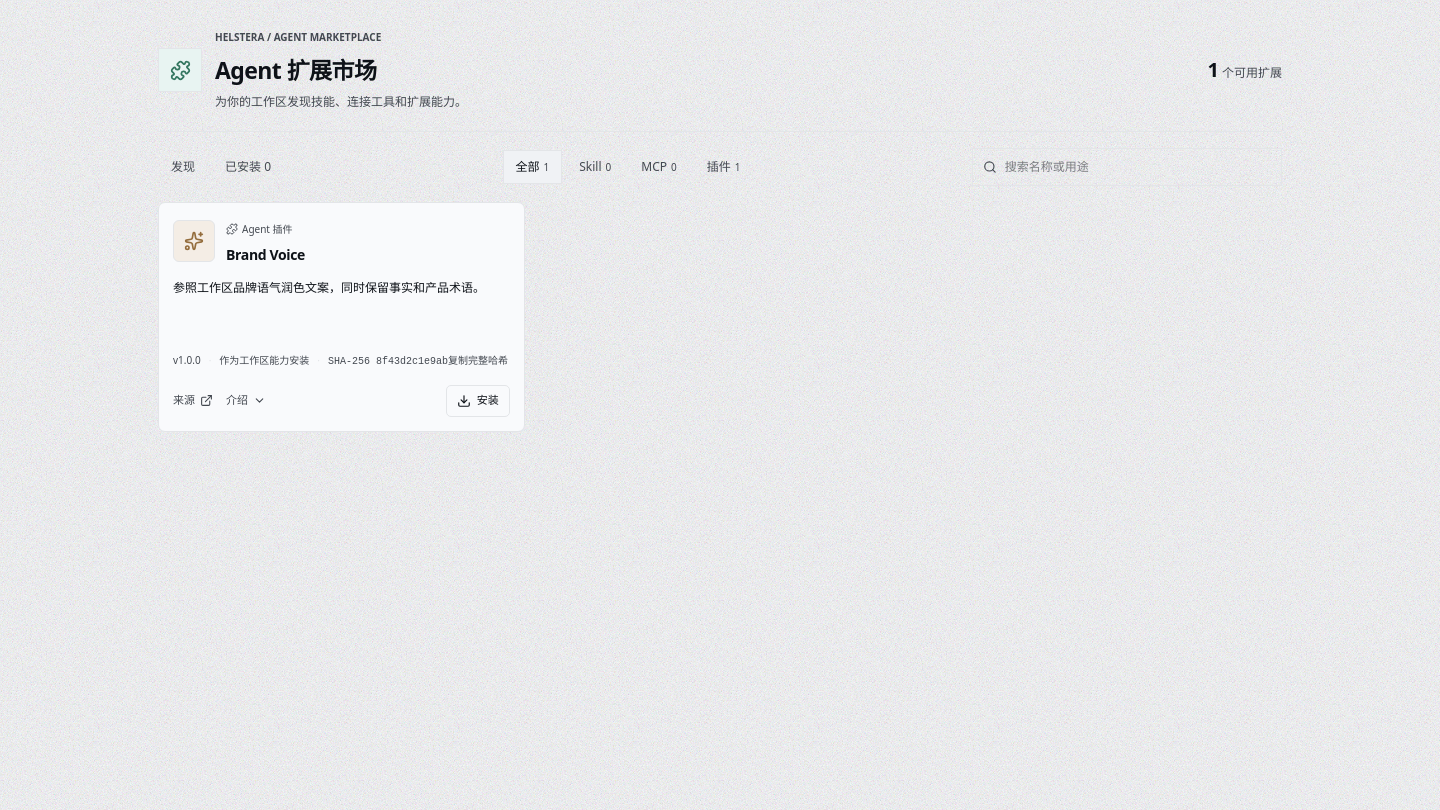
Agent marketplace installs › shows the short checksum and copies the full hash of a published plugin
The image size is (1440, 810).
Expected: the text titled "8f43d2c1e9ab0123456789abcdef0123456789abcdef0123456789abcdef012345" is shown, [328, 356, 448, 366]
Step 1. Click the button with aria-label "复制 Brand Voice 的完整校验哈希" → click(478, 360), box [448, 352, 508, 368]
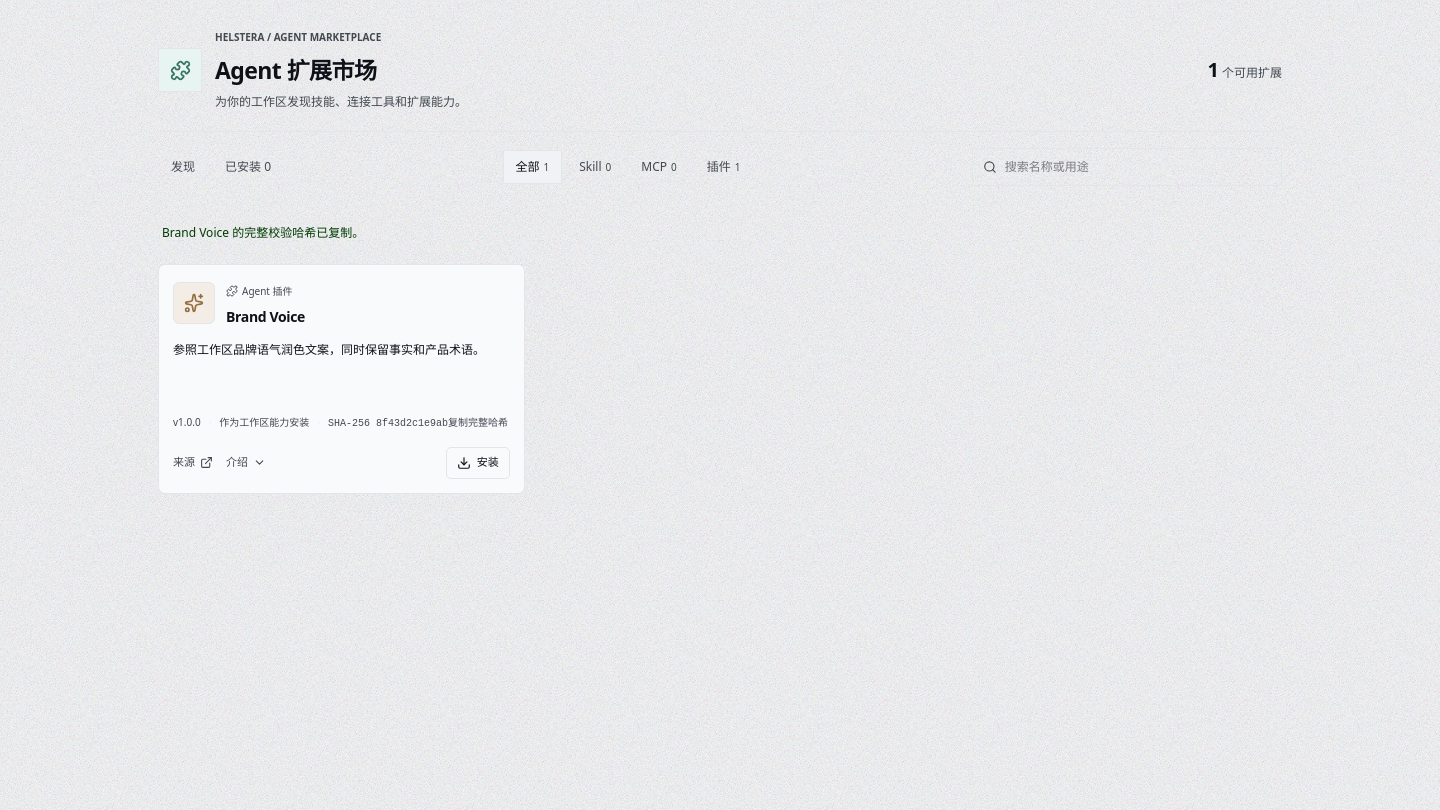
Expected: the text "Brand Voice 的完整校验哈希已复制。" is shown, [162, 224, 364, 240]
